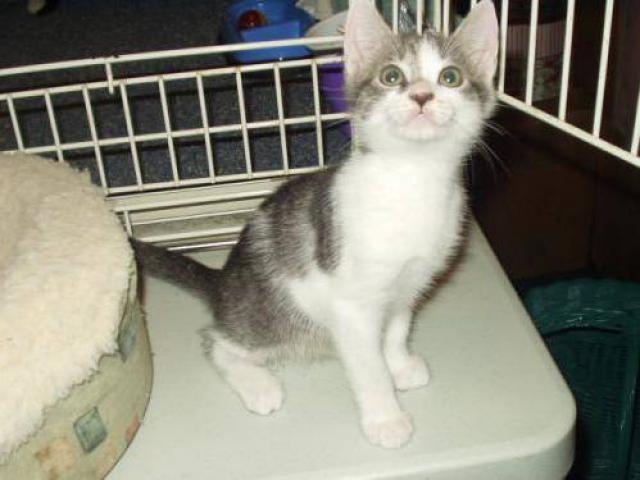cat: (164, 1, 559, 452)
